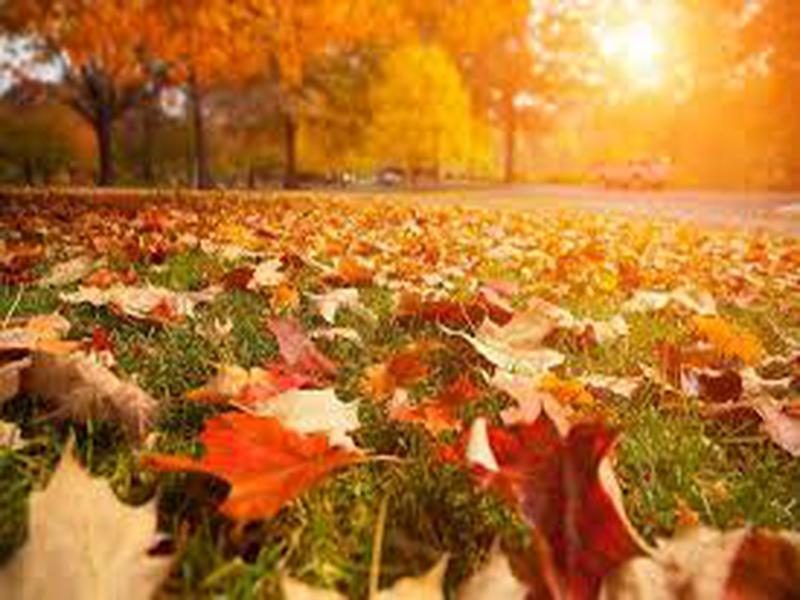leaf: (450, 408, 660, 600), (2, 419, 186, 600), (137, 406, 407, 523), (435, 303, 574, 377), (60, 281, 235, 327)
